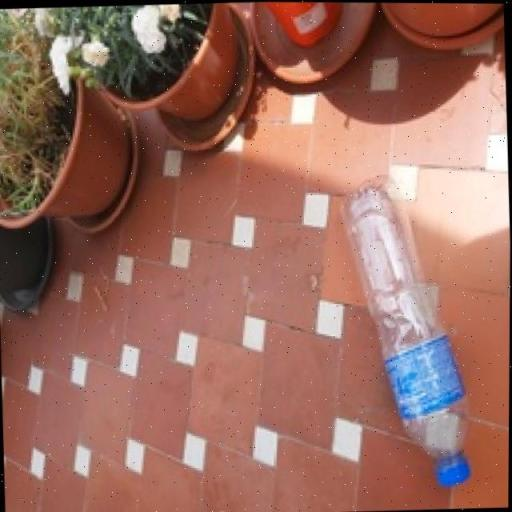plastic: (336, 176, 467, 488)
